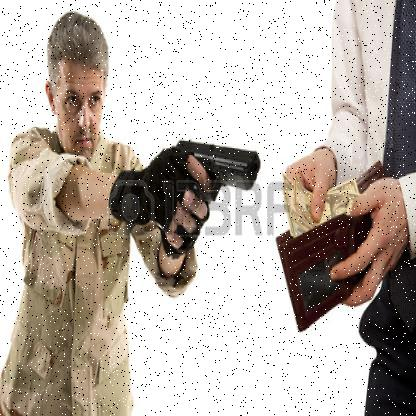pistol: (161, 135, 260, 245)
